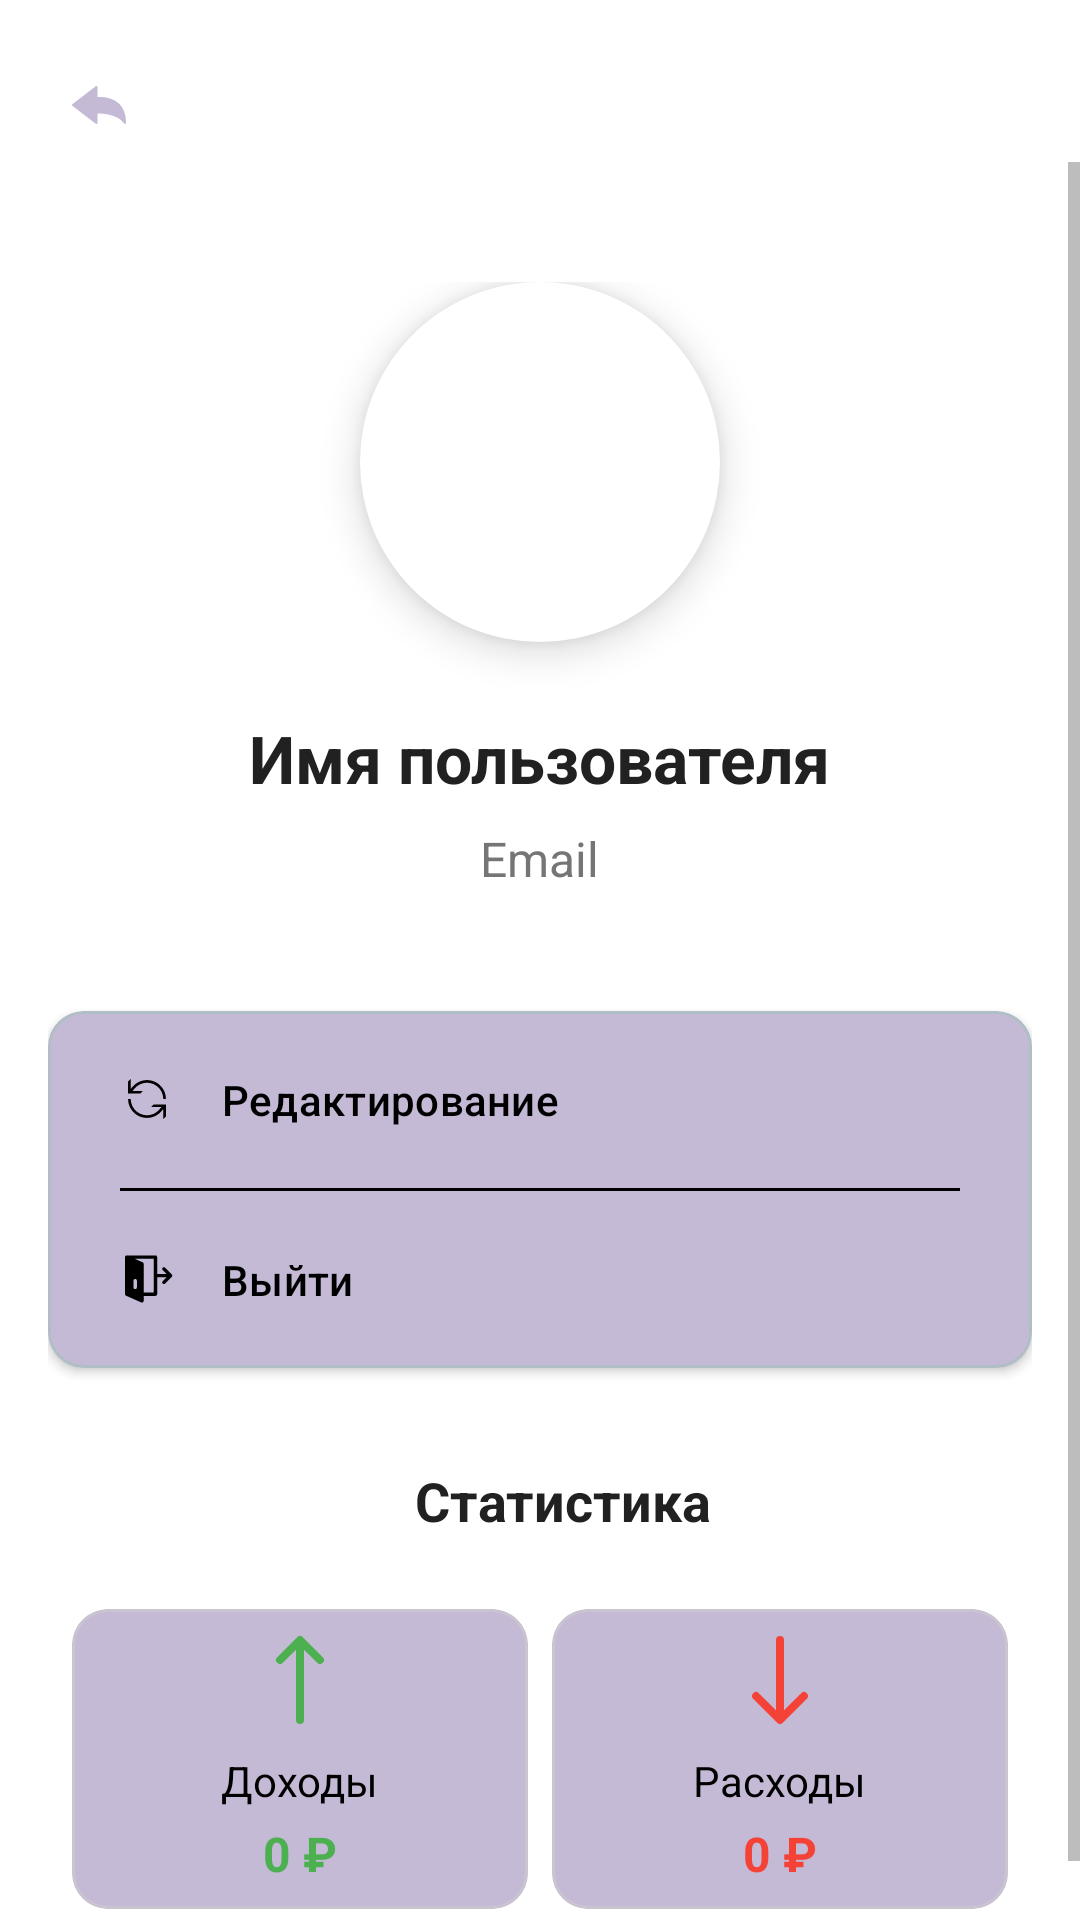

Named icons in this screenshot (1080×1920) and their centers, (x,y):
expense: (780,1680)
income: (300,1680)
nazad: (99,105)
